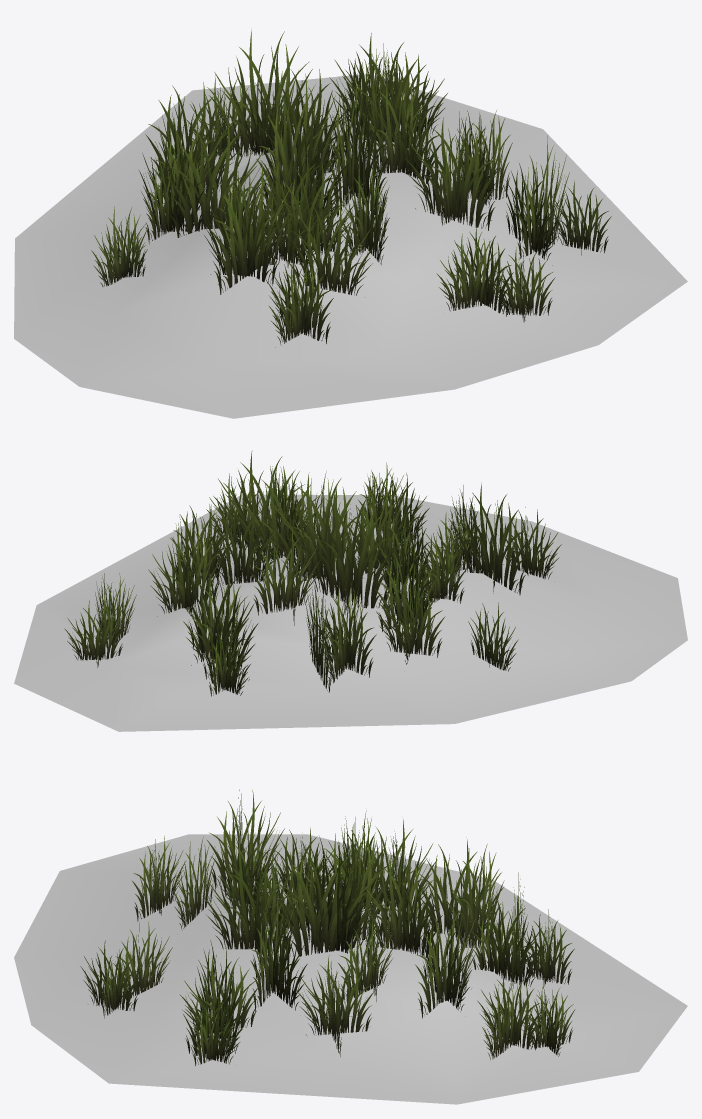
The model's file is Soil_Grass_04.fbx.
3 views of the same model, one above another, from view 1: azimuth 30°, elevation 25°; view 2: azimuth 150°, elevation 25°; view 3: azimuth 270°, elevation 25° (orthographic). The views are drawn at different scales.
Visible parts, largest first — view 1: Soil_Grass_04; view 2: Soil_Grass_04; view 3: Soil_Grass_04.
Boxes of the visible parts, x1,y1,x2,y2 form: Soil_Grass_04: (14,28,687,418); Soil_Grass_04: (14,450,687,731); Soil_Grass_04: (14,789,687,1104).
Size of the model in its own units: 7.52 by 2.16 by 7.92.
